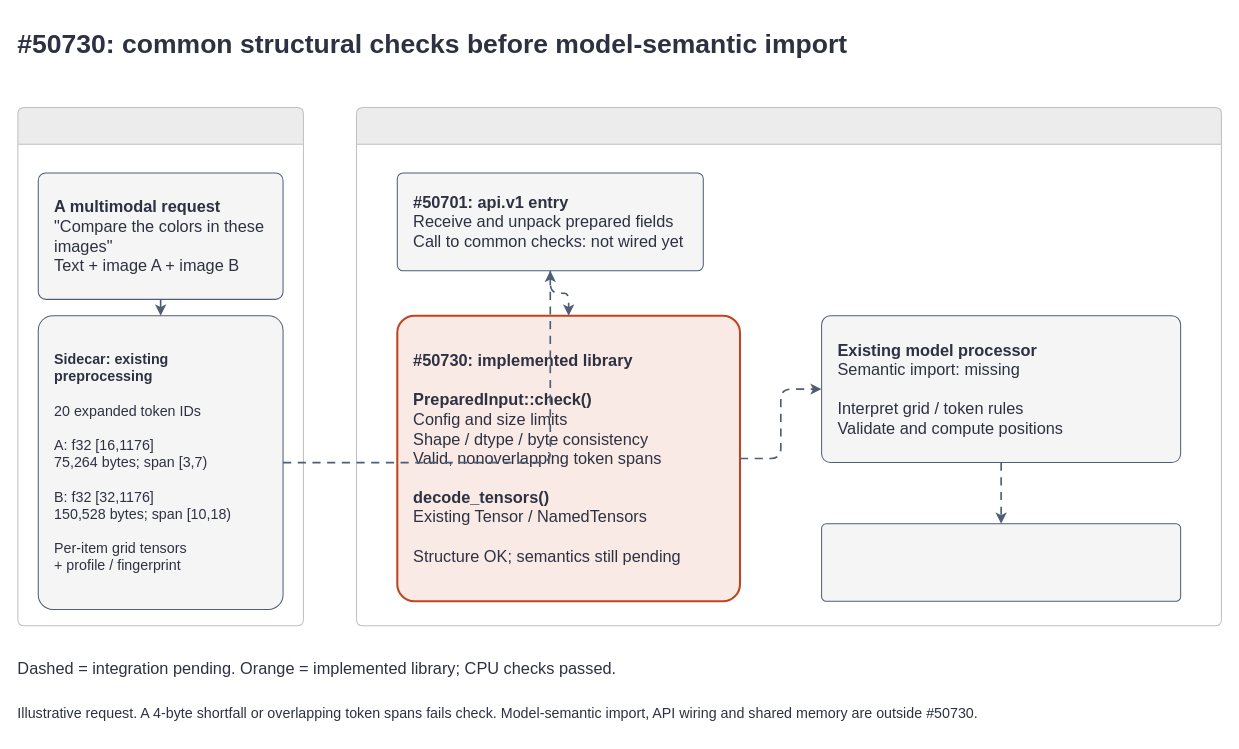
This 1239x749 diagram has some shape labels left out. The box of each missing label's shape, as (x1, y1, x2, y2) in pixels:
Existing inference Vision Encoder → LLM: (821, 523, 1181, 601)
Inside SGLang: intended prepared-input path: (355, 107, 1221, 626)
Outside SGLang: caller / sidecar: (17, 107, 303, 626)
